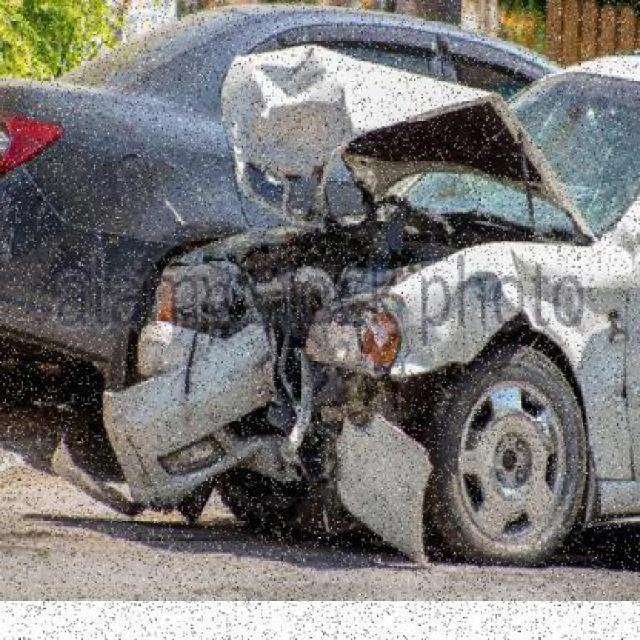bonnet-dent: (216, 46, 563, 240)
fender-dent: (408, 252, 624, 416)
front-bumper-dent: (100, 323, 383, 557)
